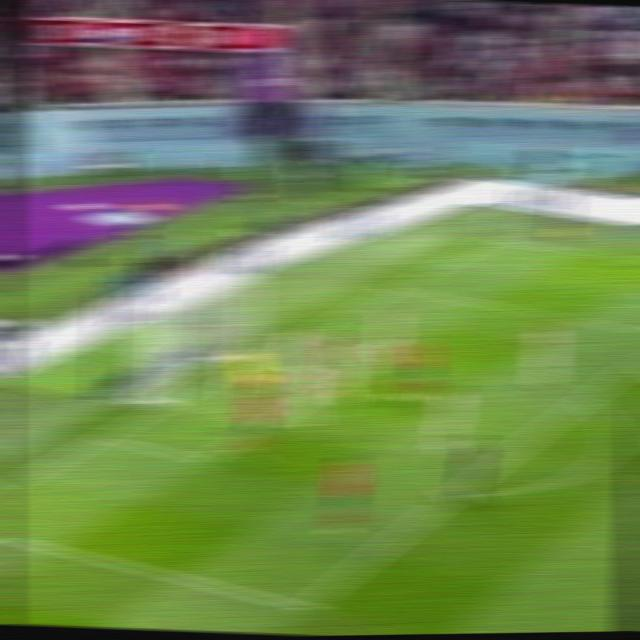bigarea_bottom_inner: (285, 590, 323, 625)
bigarea_top_outter: (379, 276, 412, 298)
bottom_arc_area_intersection: (435, 481, 470, 509)
corner: (476, 231, 513, 248)
smallarea_bottom_inner: (187, 443, 224, 475)
smallarea_bottom_outter: (83, 422, 119, 452)
smallarea_top_inner: (371, 343, 401, 363)
top_arc_area_intersection: (566, 387, 599, 412)
